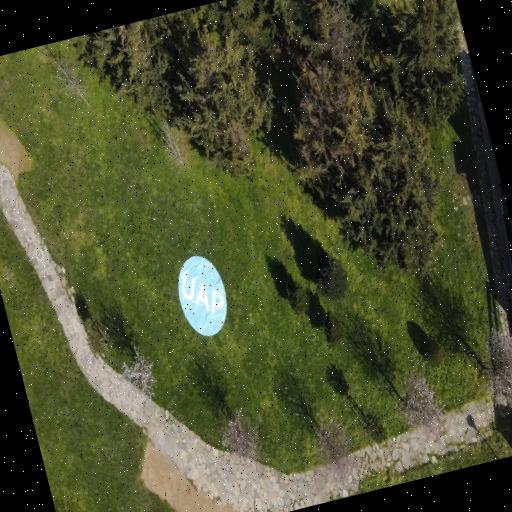car: (179, 256, 226, 336)
